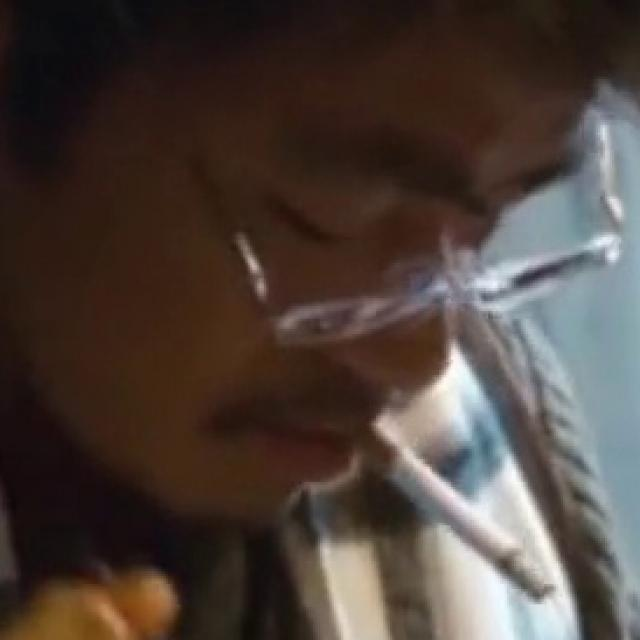smoking: (358, 420, 555, 601)
